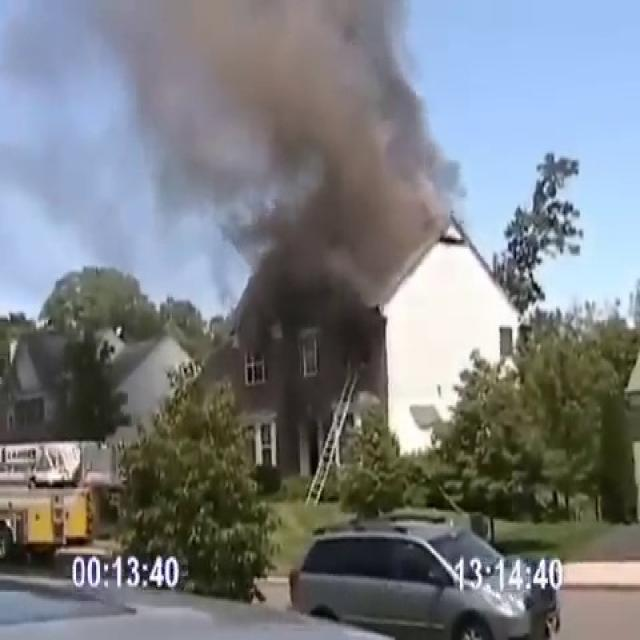Smoke: (2, 0, 470, 295)
